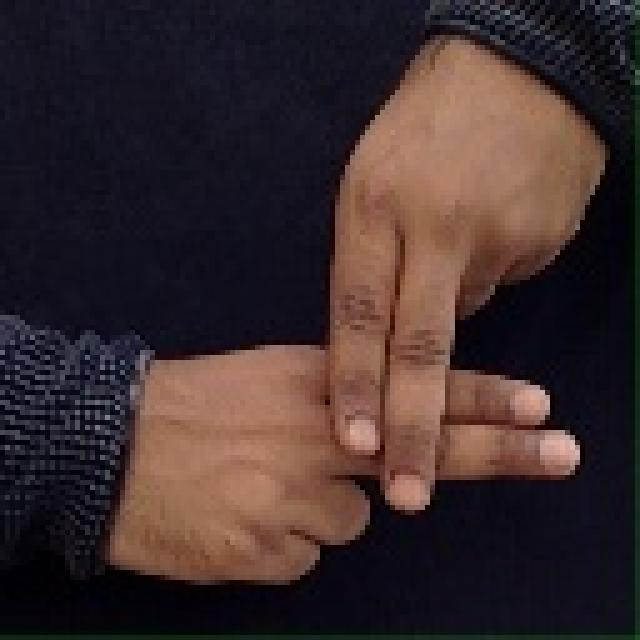F: (137, 25, 611, 593)
